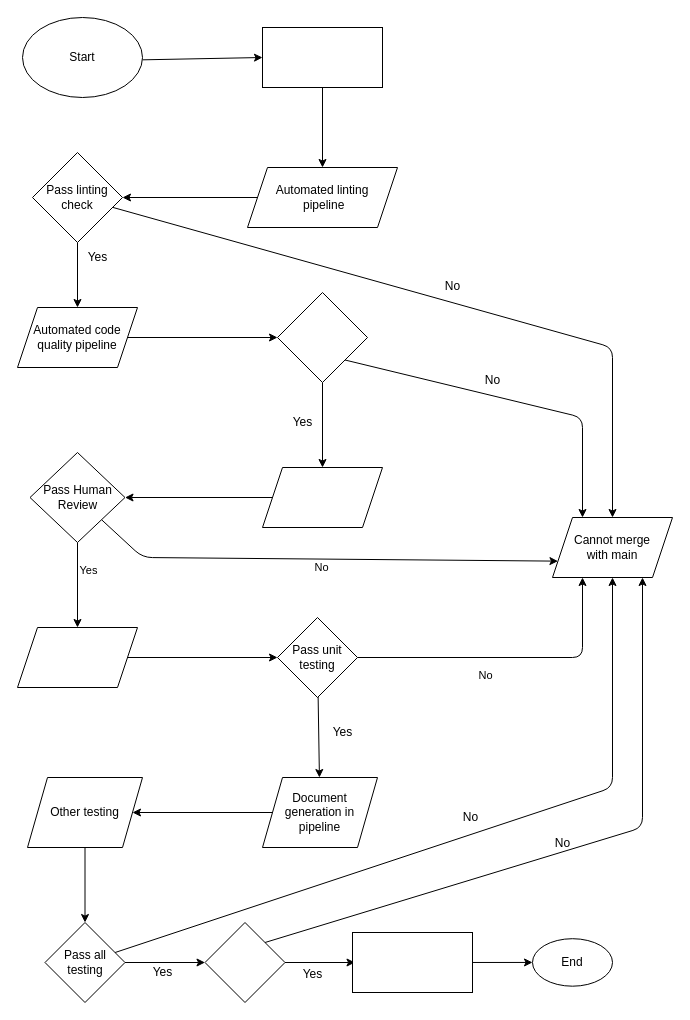
The diagram is 690 pixels wide and 1020 high, and some of its shapes have lost their labels. Here are the shapes that lost their labels. From the top down, the centre of each, then its label:
(x=322, y=57): User makes PR
(x=322, y=337): Pass Codacy check
(x=322, y=497): Human Review
(x=77, y=657): Unit testing
(x=244, y=962): No merge conflicts
(x=412, y=962): Merge with main branch
